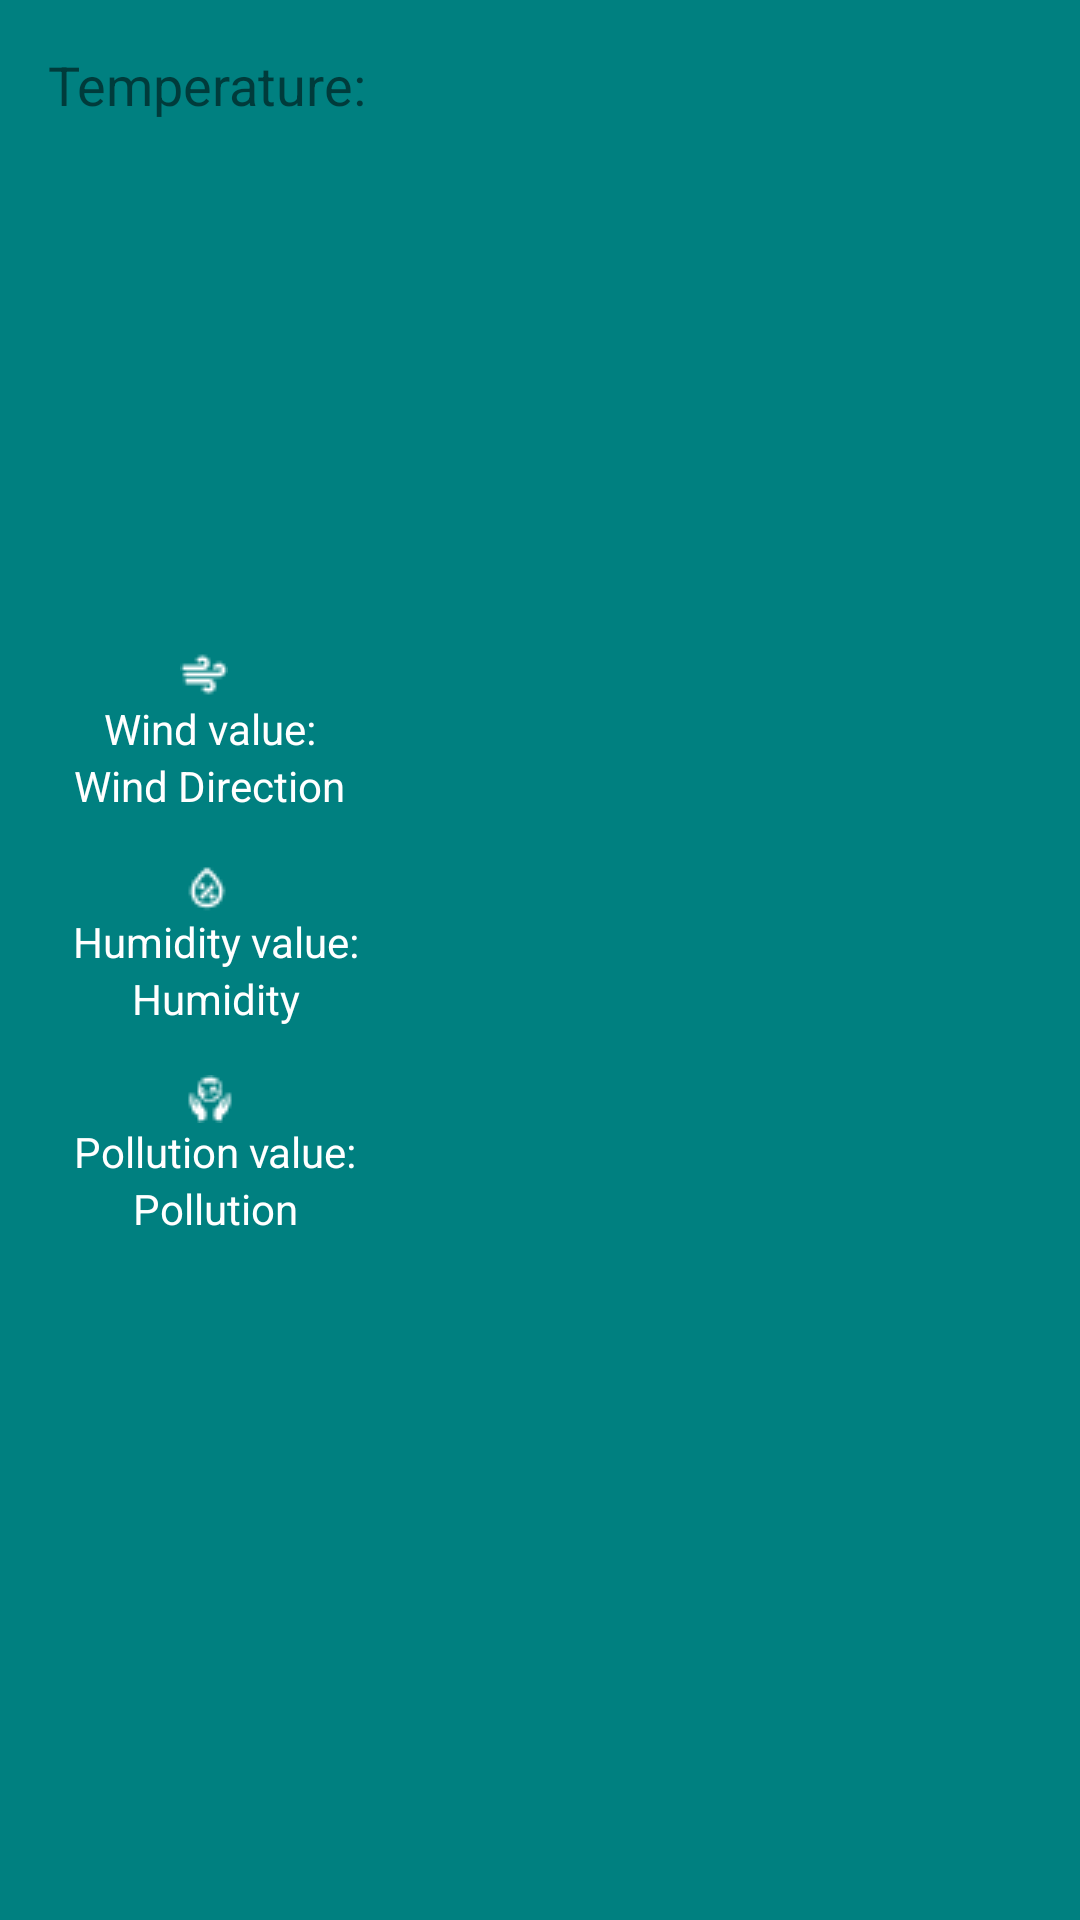

Icons on this 1080w x 1920h Android screen, each with the point to tap as (x,y):
ecology: (210,1099)
